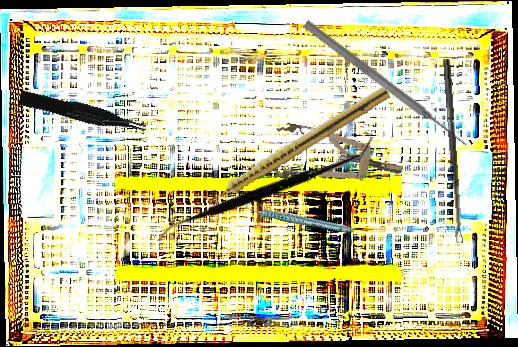Handpiece: (200, 81, 392, 211), (242, 181, 355, 256)
Pusher: (301, 18, 471, 151)
Spatula Surgical: (153, 68, 377, 310)
Speculum: (266, 120, 406, 199)
Surgical Spoon: (442, 58, 463, 244)
Tissue Forceps: (18, 85, 148, 142)
